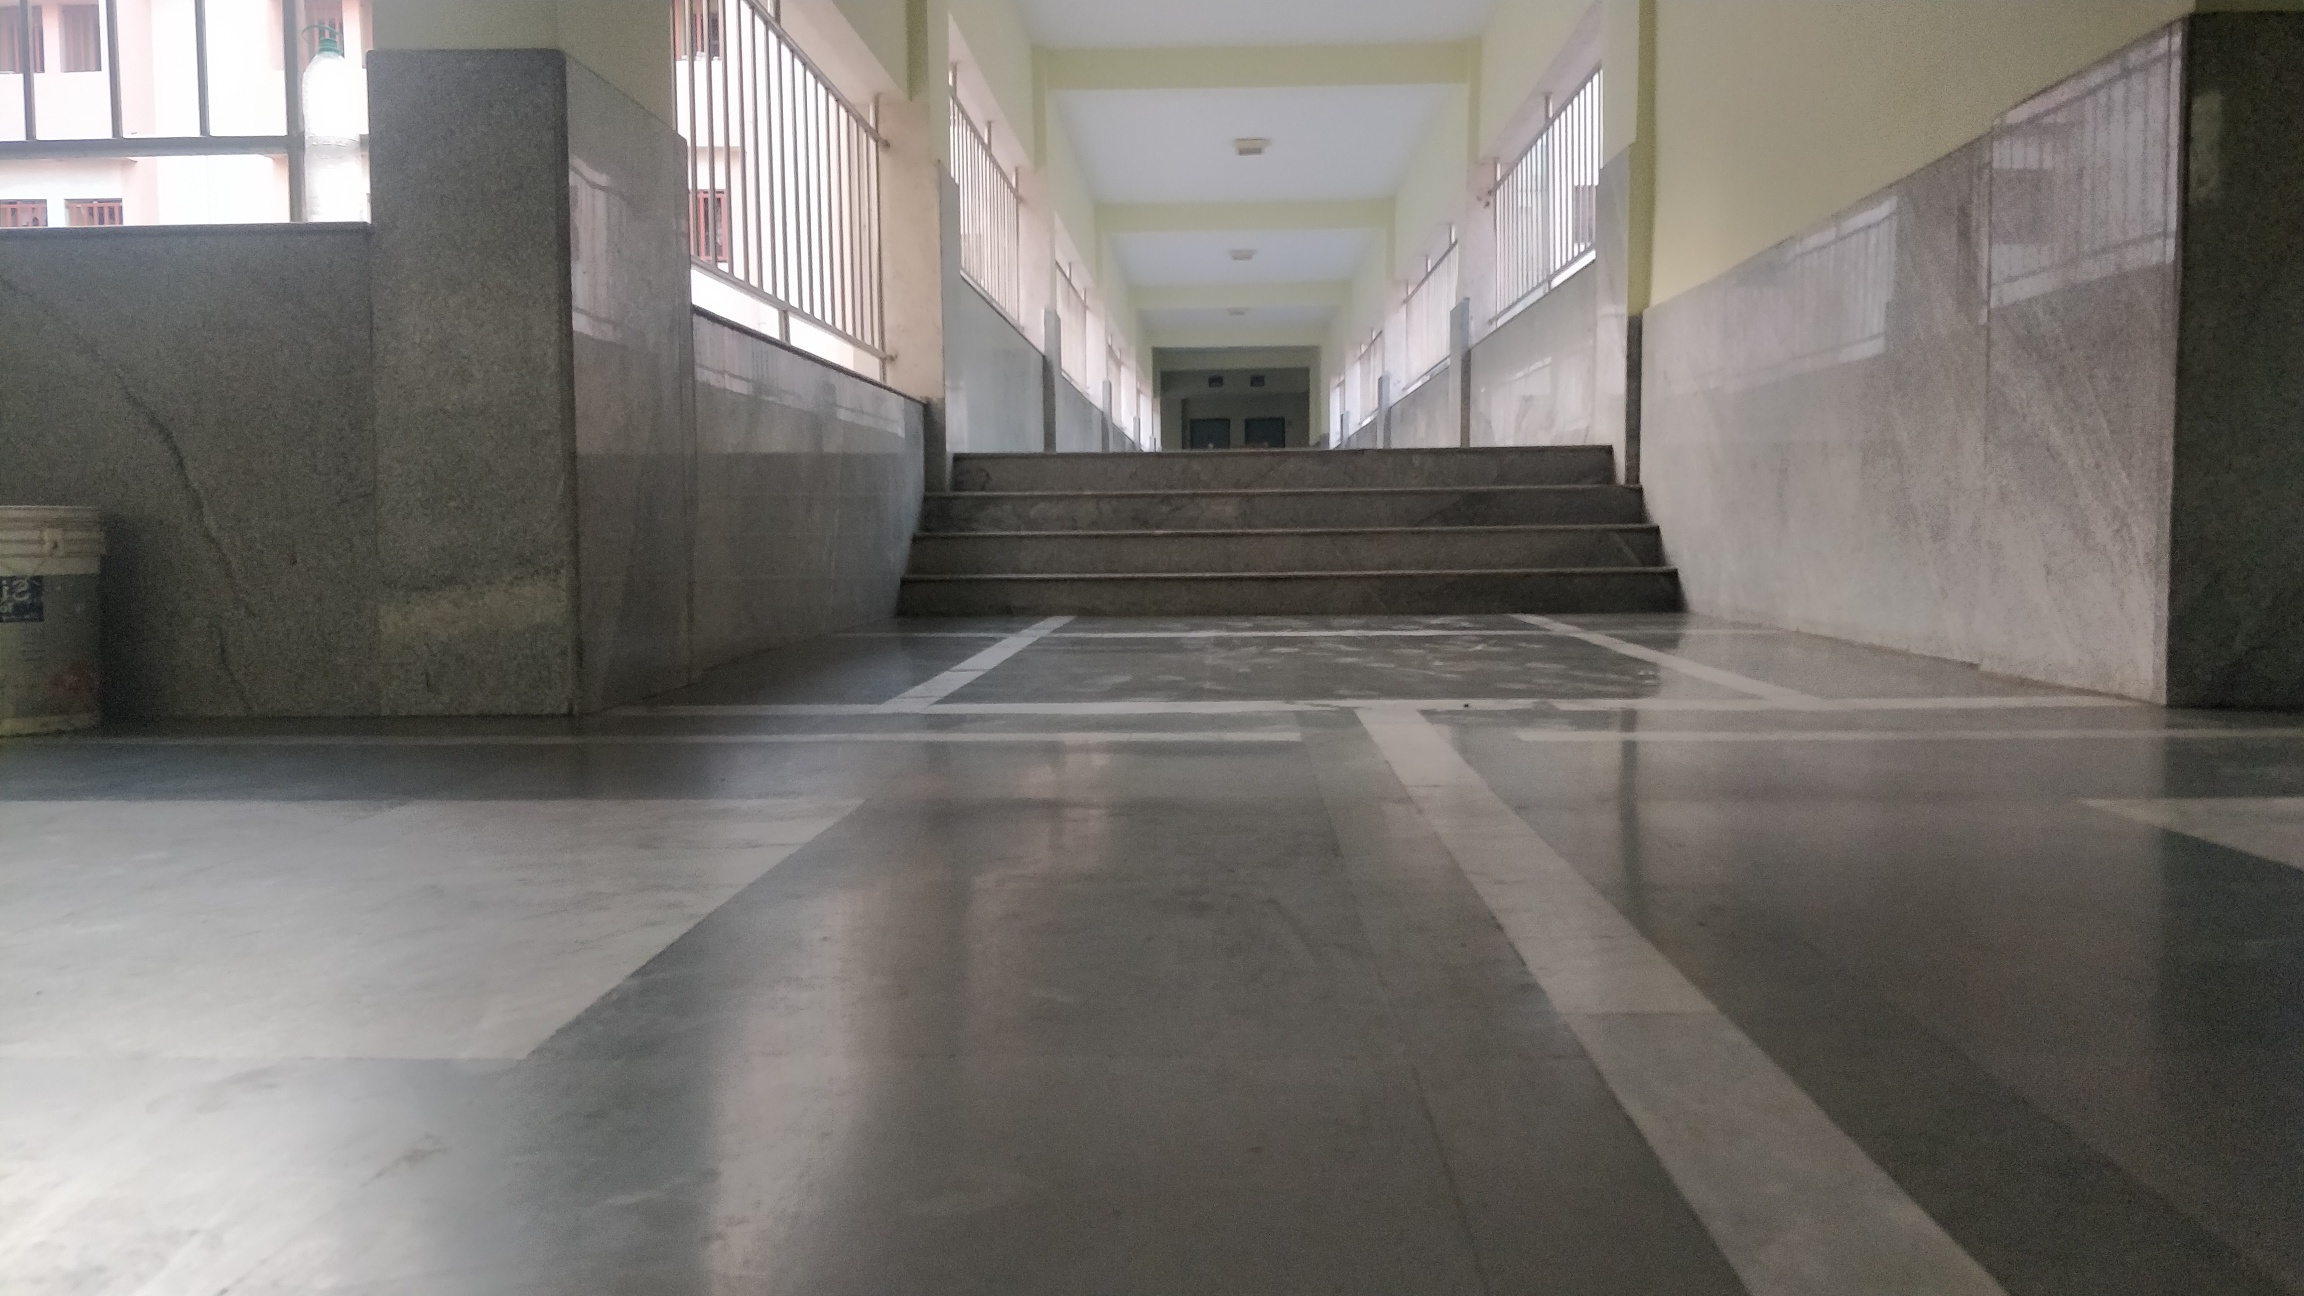stairs_up: (899, 445, 1681, 606)
